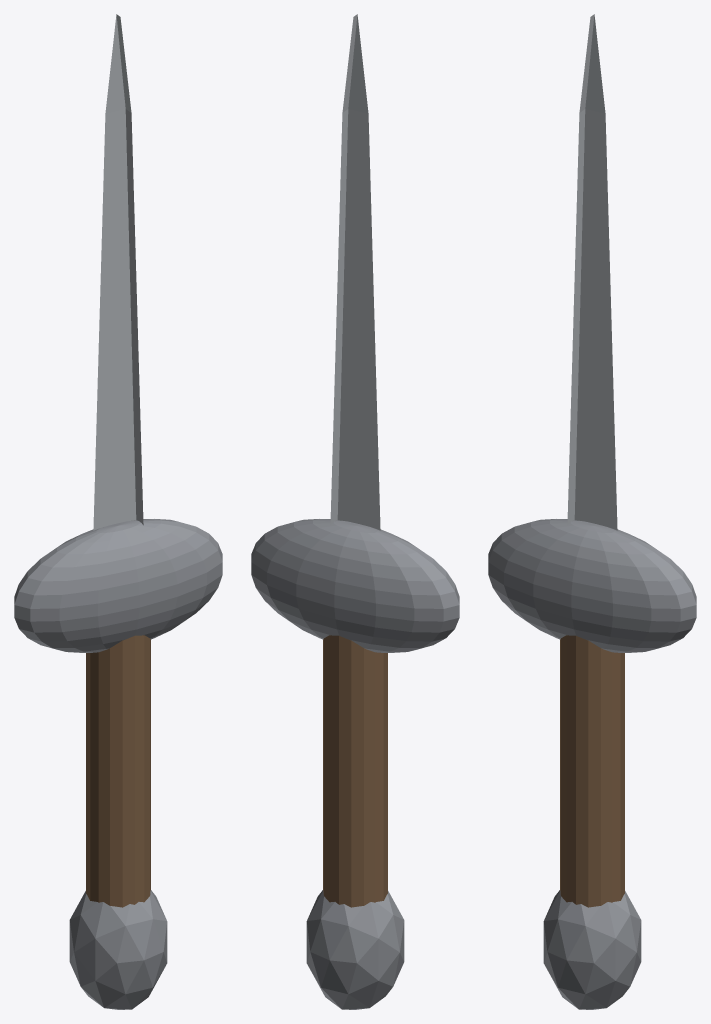
File: shattered_rapier.glb
The picture shows the model from 3 angles, left to right: view 1: azimuth 30°, elevation 25°; view 2: azimuth 150°, elevation 25°; view 3: azimuth 330°, elevation 25°; orthographic projection.
Parts seen in each view (by area): view 1: sword_0_1, sword_0_0, sword_0_2, sword_0_3; view 2: sword_0_1, sword_0_0, sword_0_2, sword_0_3; view 3: sword_0_1, sword_0_0, sword_0_2, sword_0_3.
Boxes of the visible parts, box(x1,y1,x2,y2) form: sword_0_1: box(14, 519, 222, 652); sword_0_0: box(93, 14, 143, 530); sword_0_2: box(86, 635, 150, 907); sword_0_3: box(69, 890, 167, 1009); sword_0_1: box(251, 519, 459, 652); sword_0_0: box(330, 14, 380, 530); sword_0_2: box(323, 635, 387, 907); sword_0_3: box(306, 890, 404, 1009); sword_0_1: box(488, 519, 696, 652); sword_0_0: box(567, 14, 617, 530); sword_0_2: box(560, 635, 624, 907); sword_0_3: box(543, 890, 641, 1009).
Size of the model in its own units: 0.5884 by 2.68 by 0.2509.
